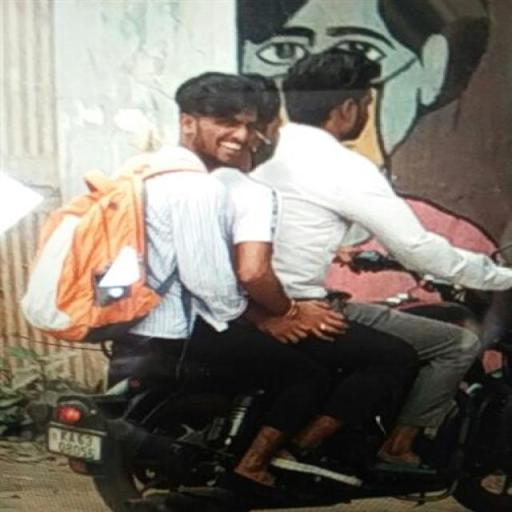tripple riding: (9, 34, 512, 384)
